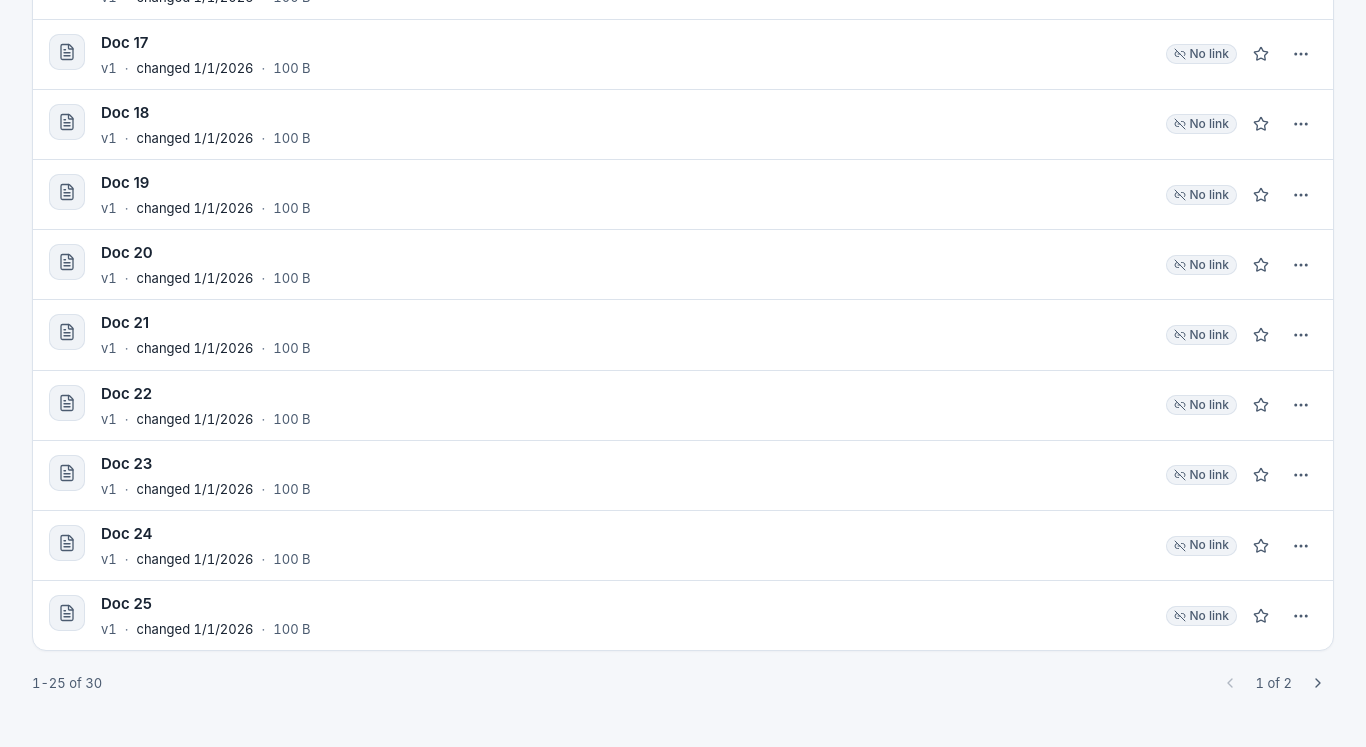
it: Home › paginates on the server, keeping the entire result count
The width and height of the screenshot is (1366, 747).
(page scrolled)
Expected: the button named "Previous page" is disabled, 1214,667 -> 1246,699
Click the button named "Next page".
click(1318, 683)  # box 1302,667 -> 1334,699
(page scrolled)
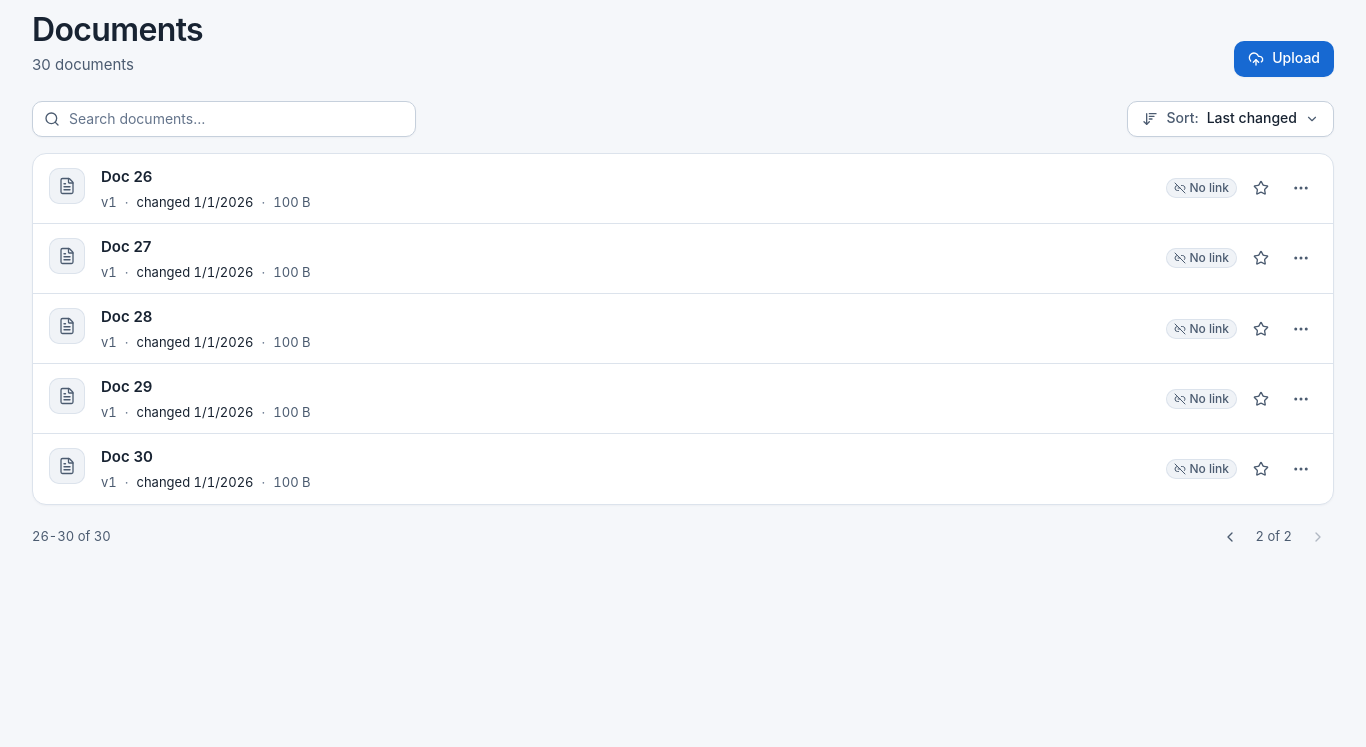
Result: the number of links "Doc 26" is 5 at 101,167 -> 152,186; 101,237 -> 152,256; 101,307 -> 152,326; 101,377 -> 152,396; 101,447 -> 153,466
Result: the button named "Next page" is disabled at 1302,521 -> 1334,553
